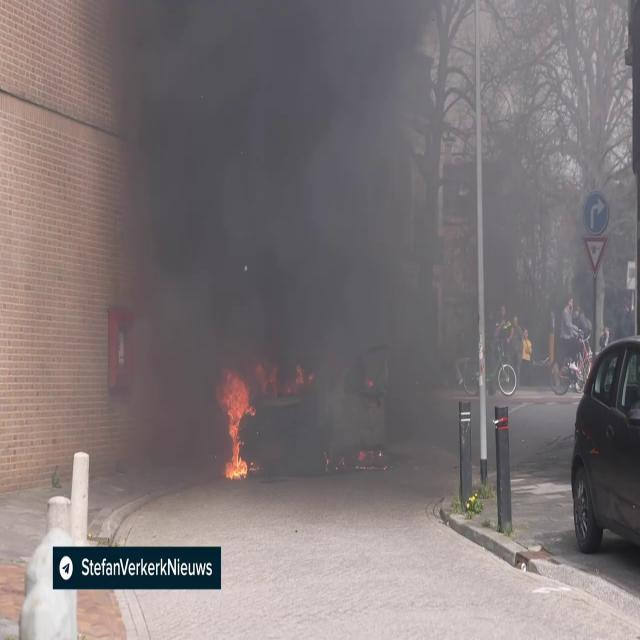Fire: (217, 368, 255, 482)
Smoke: (89, 1, 601, 450)
